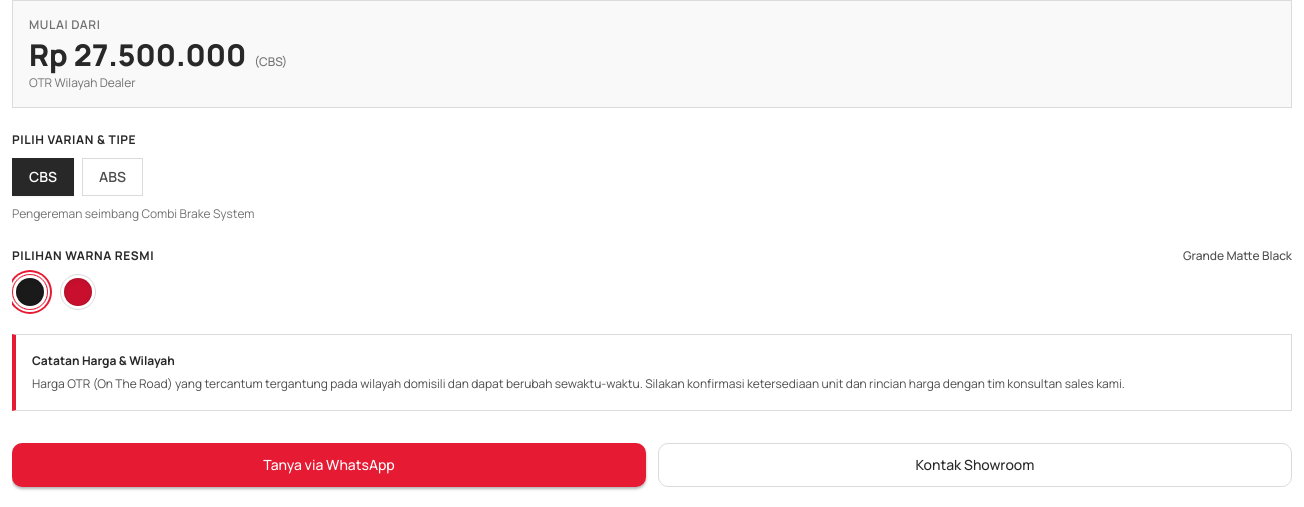
it: VariantColorSelector Component › switches variant and updates displayed price and available colors
Click the radio button labelled "ABS" at (112, 177), box [82,158,143,196]
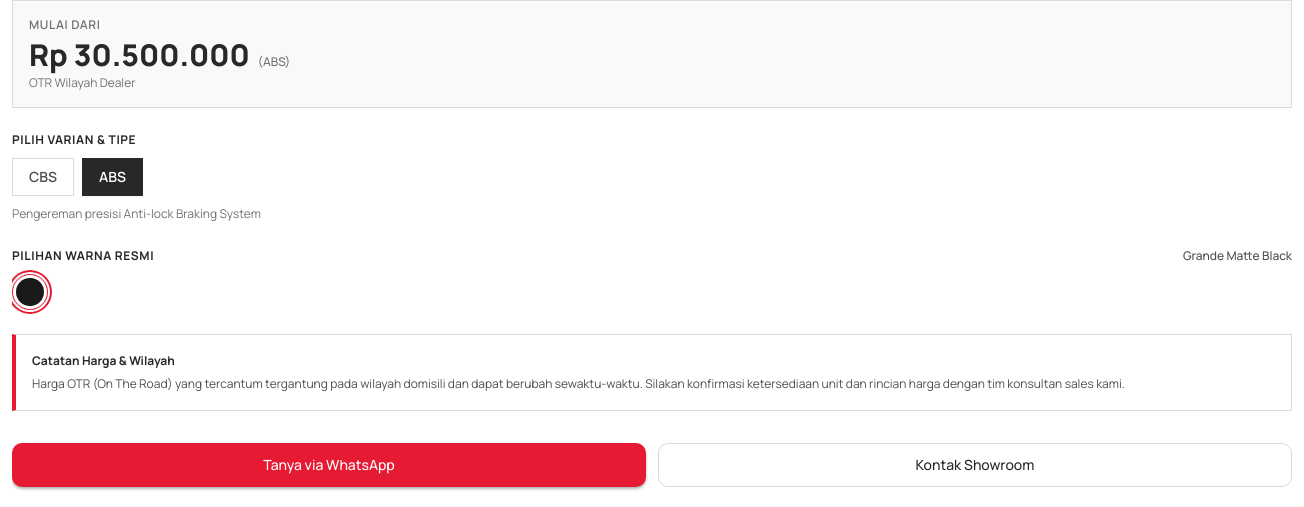
Result: the text "Rp 30.500.000" is shown at [29,37,250,73]
Result: the text "(ABS)" is shown at [258,54,290,70]
